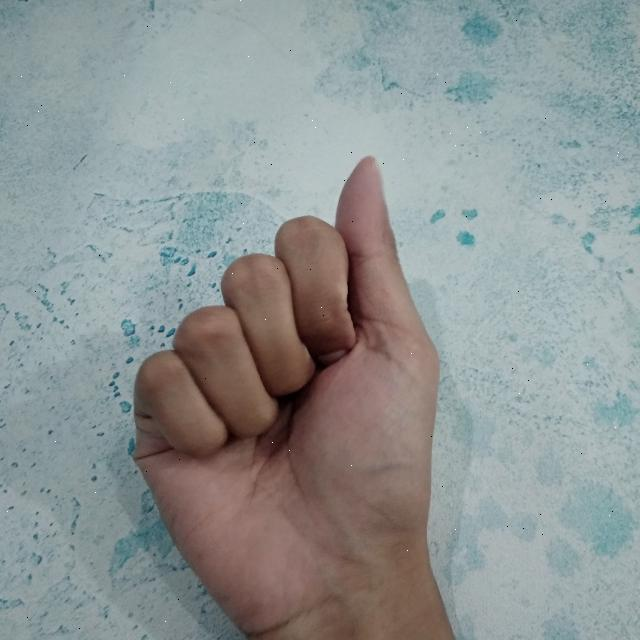A: (129, 143, 450, 640)
